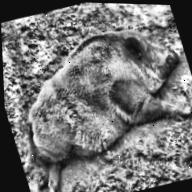boar: (0, 8, 192, 192)
